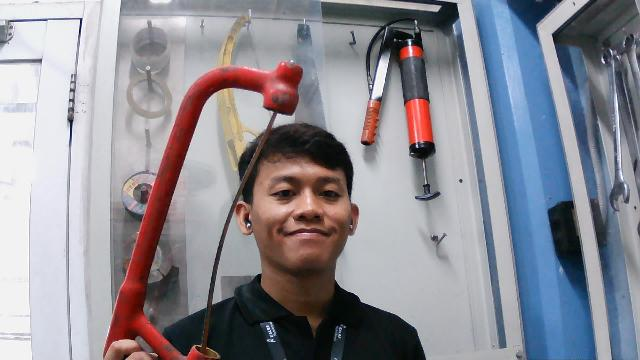gergaji_besi: (97, 58, 305, 360)
